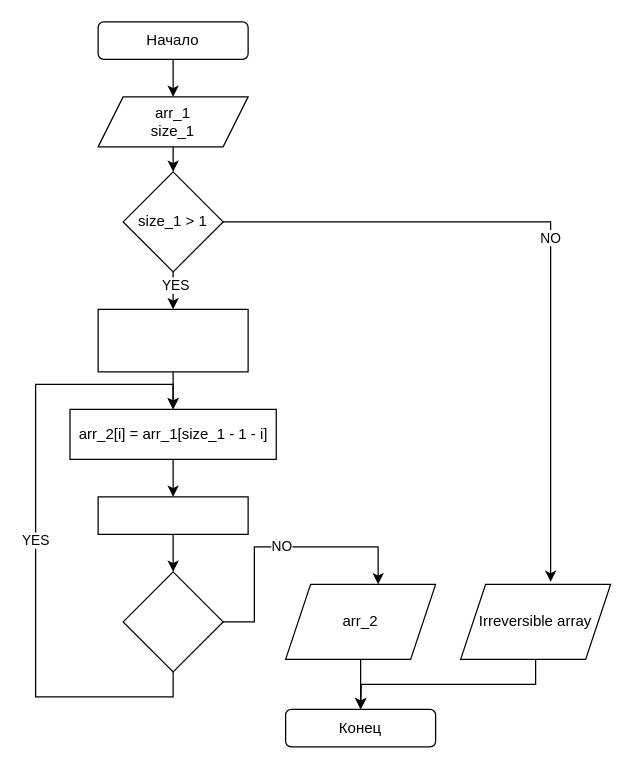
The diagram is 633 pixels wide and 769 high, and some of its shapes have lost their labels. Each missing label, with the centre of its shape:
"arr_2 size_2 = size_1 i = 0" belongs at [172,340].
"i < size" belongs at [172,621].
"i = i +1" belongs at [172,515].
